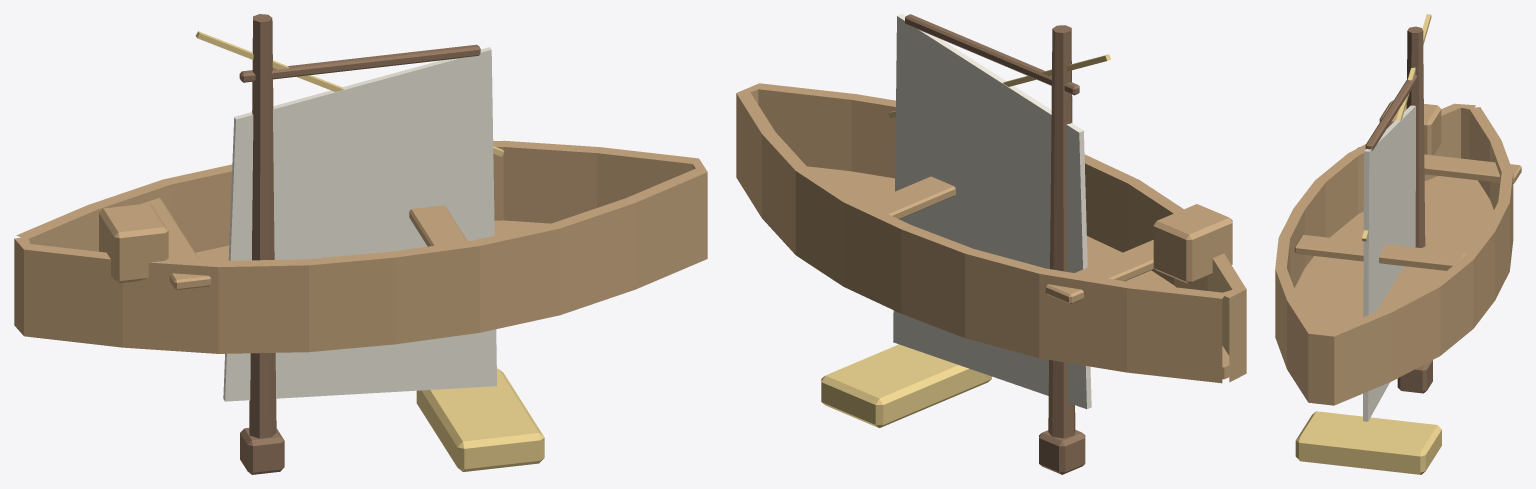
Rendered from town_fishing_boat.glb.
3 renders of one model, left to right at view 1: azimuth 30°, elevation 25°; view 2: azimuth 150°, elevation 25°; view 3: azimuth 270°, elevation 25°, orthographic. The views are drawn at different scales.
Parts seen in each view (by area): view 1: world; view 2: world; view 3: world.
Part boxes in pixels (x1,y1,x2,y2): world: (14, 14, 707, 474); world: (736, 14, 1246, 474); world: (1275, 14, 1521, 474).
Bounding box in the file's own units: 2 × 1.43 × 0.8947.
